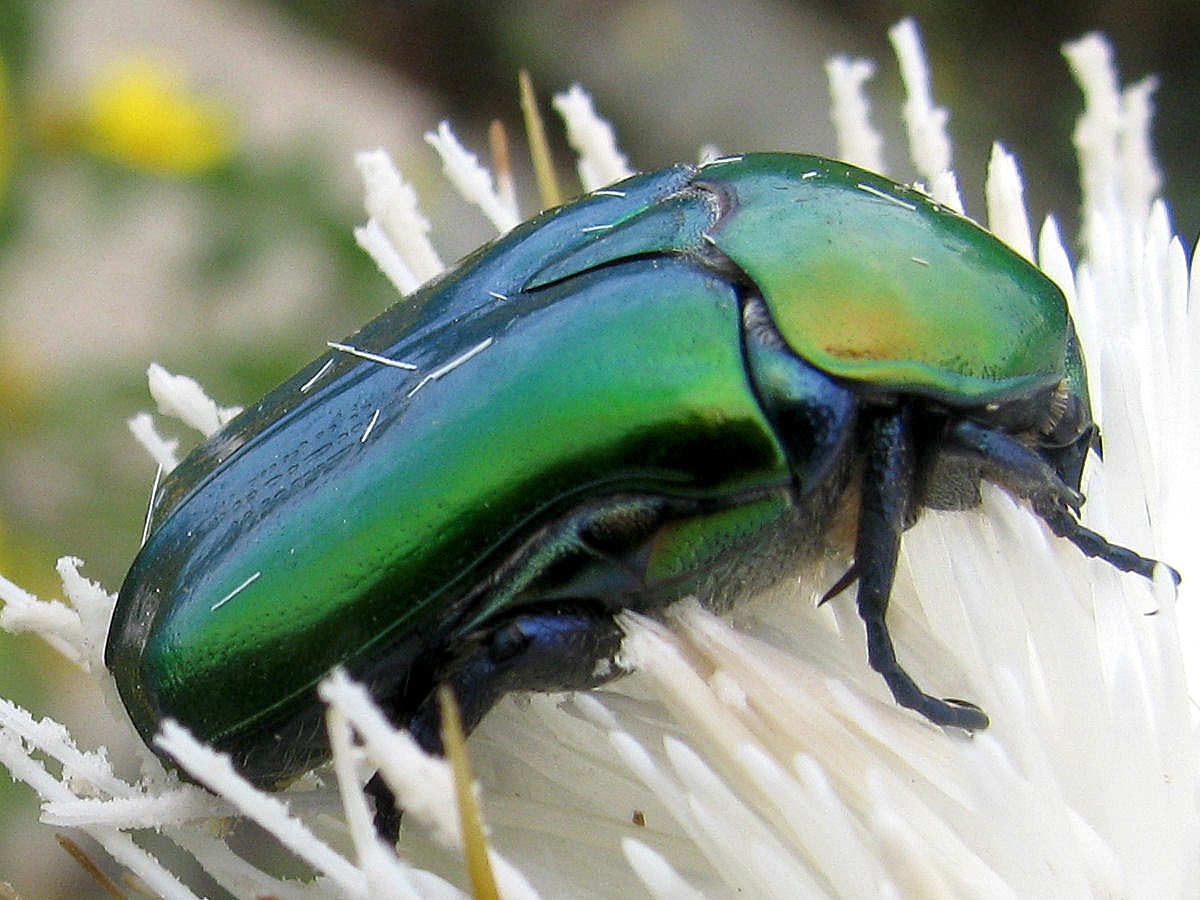Protaetia_cuprea_ignicollis: (96, 135, 1195, 867)
